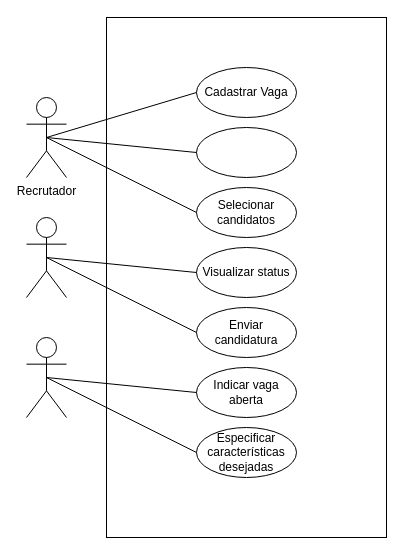
The diagram is 404 pixels wide and 555 high, and some of its shapes have lost their labels. The shapes that lost their labels are listed below. From the top down, each one's box as (x1, y1, x2, y2) in pixels, then its label:
(196, 126, 296, 178): Revisar candidaturas
(26, 216, 66, 298): Candidato
(26, 336, 66, 418): Gestor
